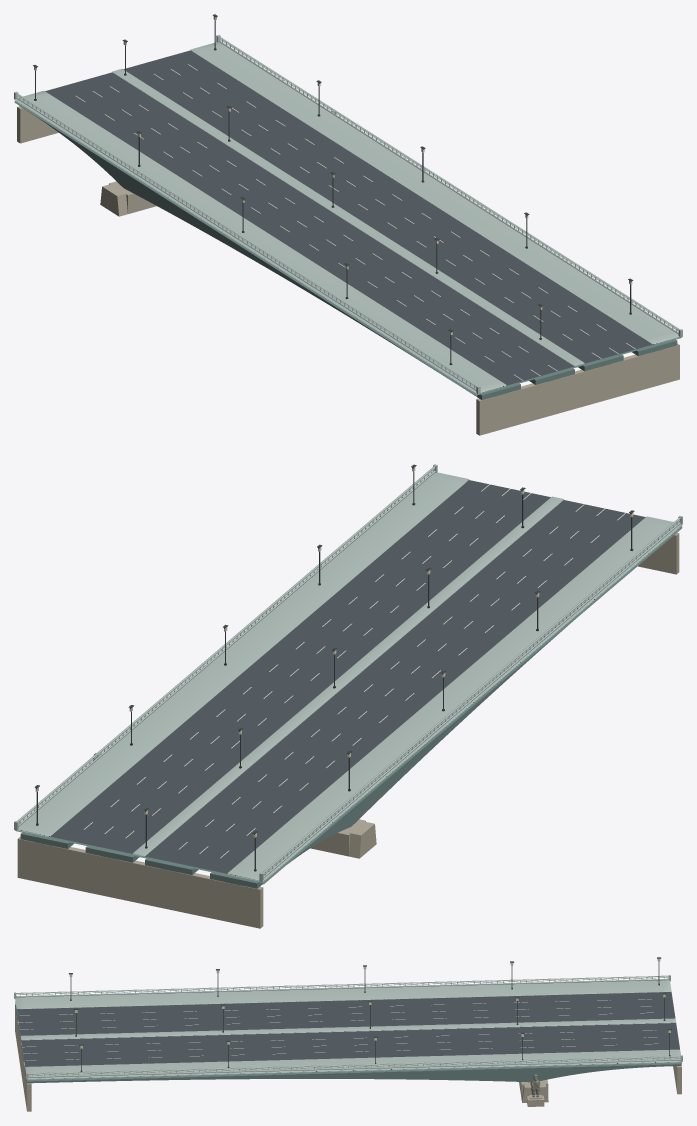
The model's file is pont-de-l-alma-near.glb.
The picture shows the model from 3 angles, top to bottom: view 1: azimuth 30°, elevation 25°; view 2: azimuth 150°, elevation 25°; view 3: azimuth 270°, elevation 25°; orthographic projection. The views are drawn at different scales.
Parts seen in each view (by area): view 1: pont-de-l-alma-0-asphalt, pont-de-l-alma-0-trim, pont-de-l-alma-0-stone, pont-de-l-alma-0-steel, pont-de-l-alma-0-paint, pont-de-l-alma-0-iron; view 2: pont-de-l-alma-0-asphalt, pont-de-l-alma-0-trim, pont-de-l-alma-0-stone, pont-de-l-alma-0-steel, pont-de-l-alma-0-paint, pont-de-l-alma-0-iron; view 3: pont-de-l-alma-0-asphalt, pont-de-l-alma-0-trim, pont-de-l-alma-0-steel, pont-de-l-alma-0-stone, pont-de-l-alma-0-paint, pont-de-l-alma-0-iron.
Boxes of the visible parts, <box> form: pont-de-l-alma-0-asphalt: <box>45,50,652,385</box>; pont-de-l-alma-0-trim: <box>14,35,682,394</box>; pont-de-l-alma-0-stone: <box>17,106,679,435</box>; pont-de-l-alma-0-steel: <box>14,101,681,399</box>; pont-de-l-alma-0-paint: <box>76,64,635,380</box>; pont-de-l-alma-0-iron: <box>33,14,633,365</box>; pont-de-l-alma-0-asphalt: <box>50,480,645,873</box>; pont-de-l-alma-0-trim: <box>14,464,682,881</box>; pont-de-l-alma-0-stone: <box>17,532,679,928</box>; pont-de-l-alma-0-steel: <box>15,526,682,888</box>; pont-de-l-alma-0-paint: <box>84,484,625,858</box>; pont-de-l-alma-0-iron: <box>34,464,634,871</box>; pont-de-l-alma-0-asphalt: <box>16,992,679,1066</box>; pont-de-l-alma-0-trim: <box>14,975,682,1079</box>; pont-de-l-alma-0-steel: <box>15,999,681,1083</box>; pont-de-l-alma-0-stone: <box>15,1005,681,1111</box>; pont-de-l-alma-0-paint: <box>19,999,658,1060</box>; pont-de-l-alma-0-iron: <box>68,957,671,1071</box>.
Size of the model in its own units: 50.86 by 14.65 by 145.
